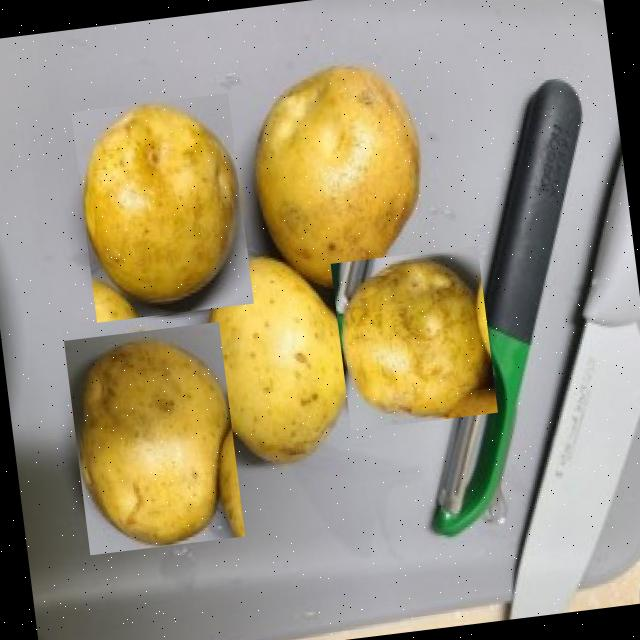Potato: (242, 52, 434, 298), (62, 321, 244, 554), (70, 91, 252, 322), (188, 246, 364, 477), (329, 245, 496, 430)
